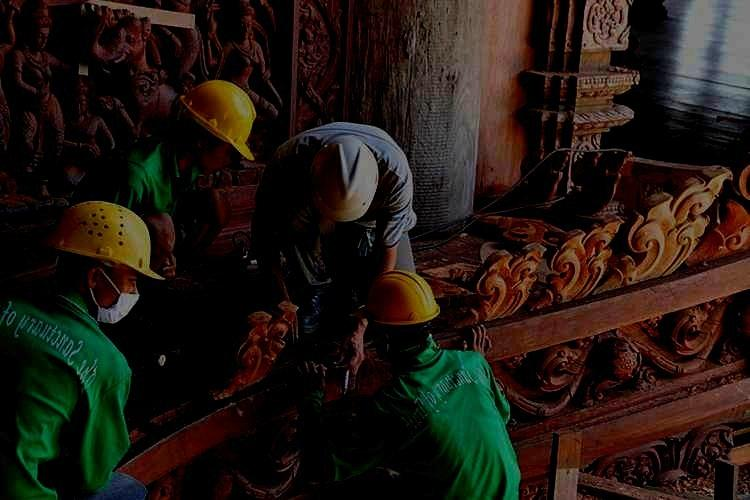helmet: (48, 199, 166, 324), (171, 79, 257, 177), (349, 270, 441, 360), (309, 132, 379, 223)
